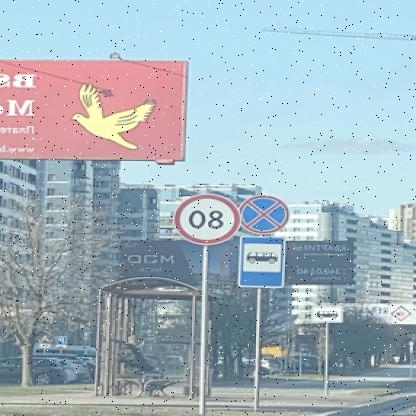speedlimit: (175, 192, 243, 244)
